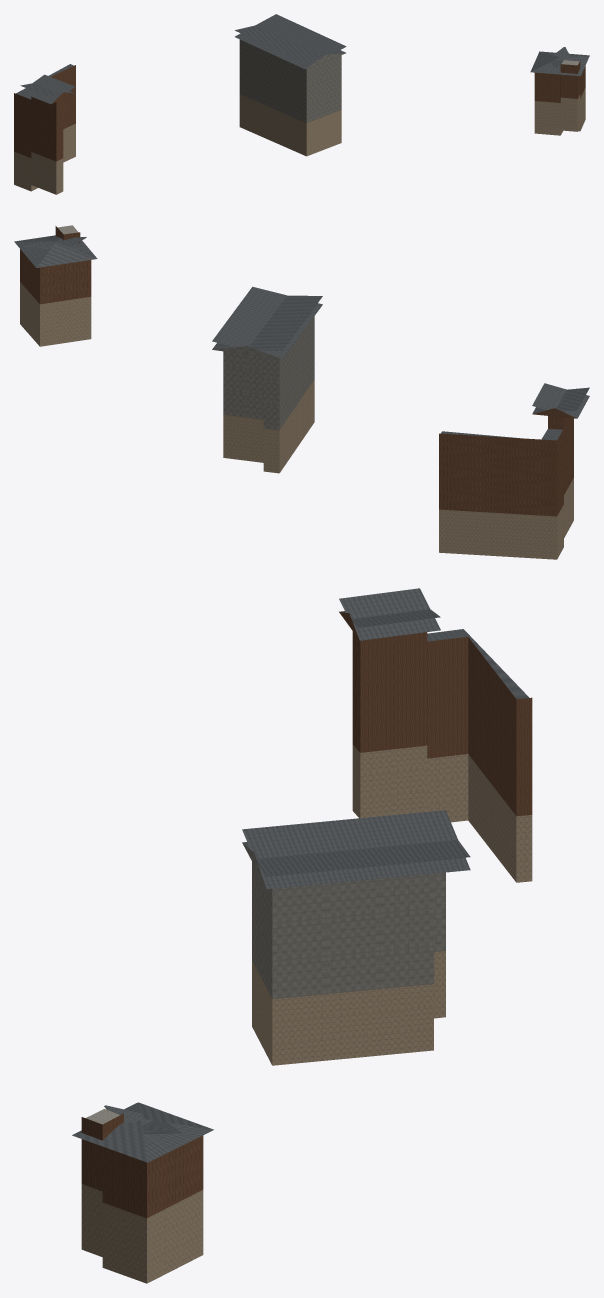
File: bld_c14_24_401.gltf
The picture shows the model from 3 angles, top to bottom: view 1: azimuth 30°, elevation 25°; view 2: azimuth 150°, elevation 25°; view 3: azimuth 270°, elevation 25°; orthographic projection. The views are drawn at different scales.
Visible parts, largest first — view 1: bld_c14_24_401; view 2: bld_c14_24_401; view 3: bld_c14_24_401.
Boxes of the visible parts, x1=… form: bld_c14_24_401: x1=14, y1=14, x2=589, y2=194; bld_c14_24_401: x1=14, y1=225, x2=589, y2=559; bld_c14_24_401: x1=72, y1=588, x2=532, y2=1283.
Size of the model in its own units: 80.55 by 16.6 by 32.04.
7 materials, 7 textured.
